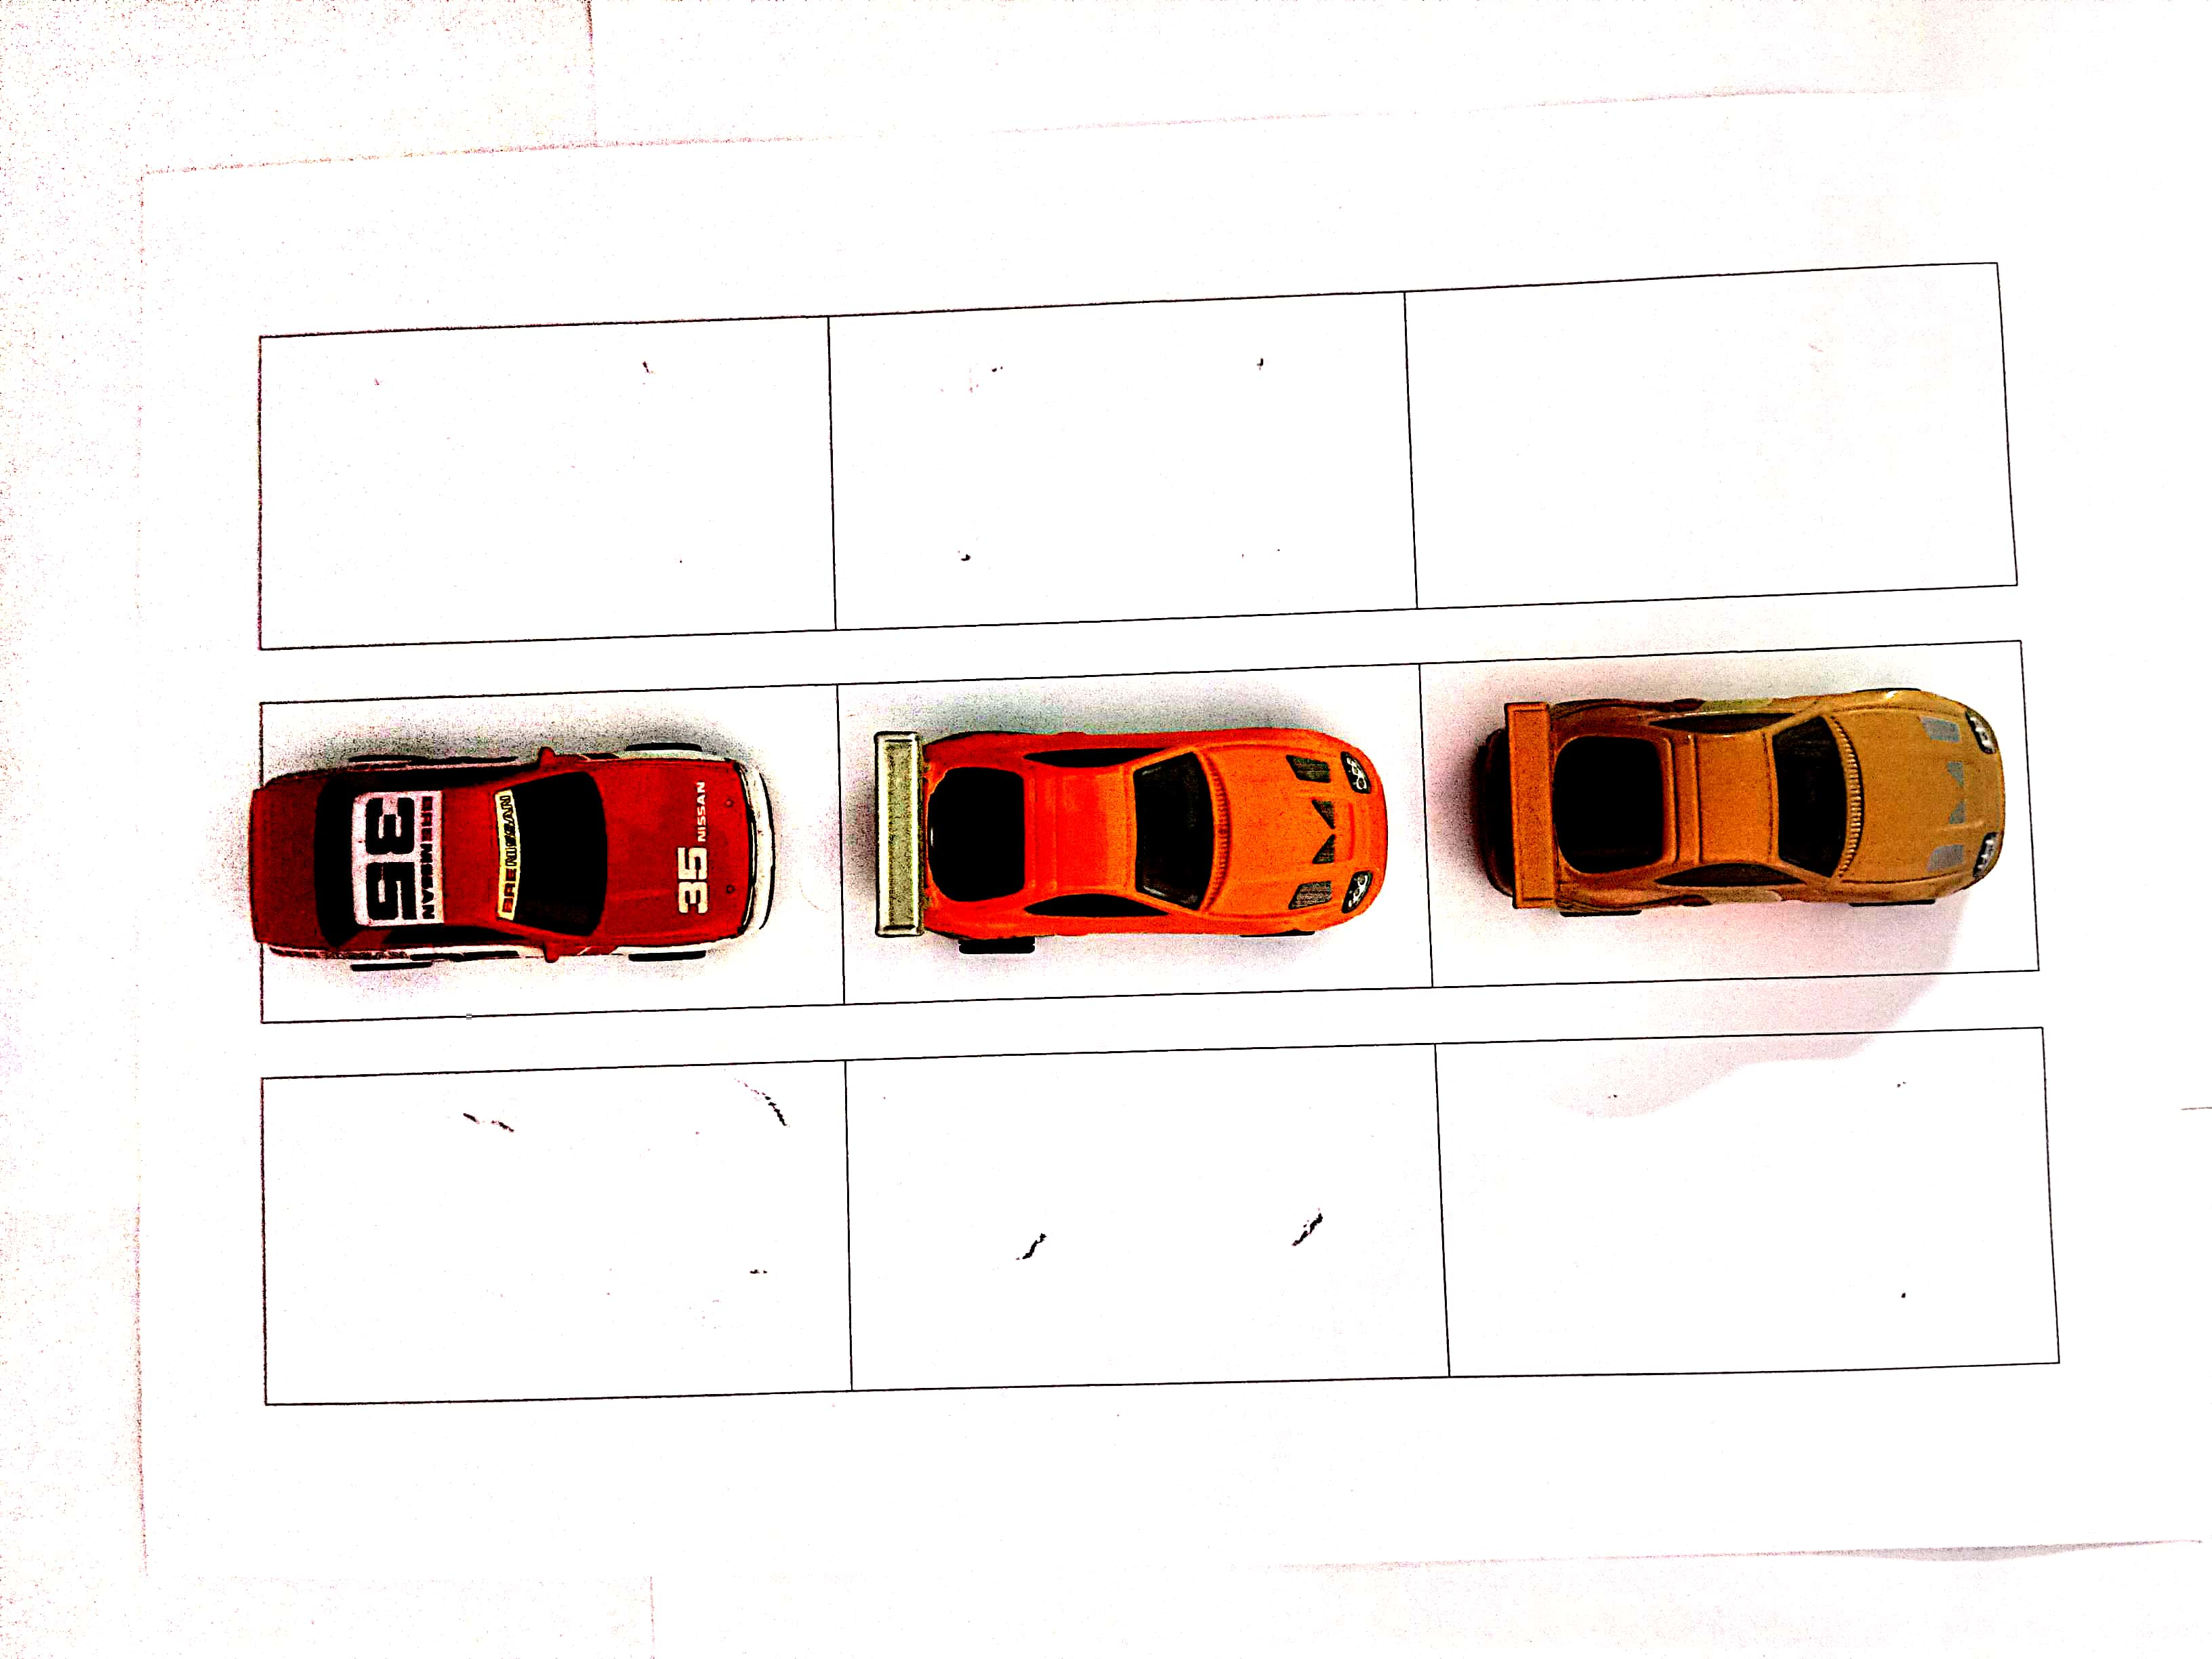Busy: (1433, 650, 2026, 976), (834, 687, 1432, 992), (261, 697, 831, 1014)
Free: (1451, 1023, 2034, 1375), (1416, 263, 1991, 606), (848, 1053, 1454, 1375), (265, 1061, 852, 1392), (834, 288, 1406, 627), (256, 336, 827, 633)
